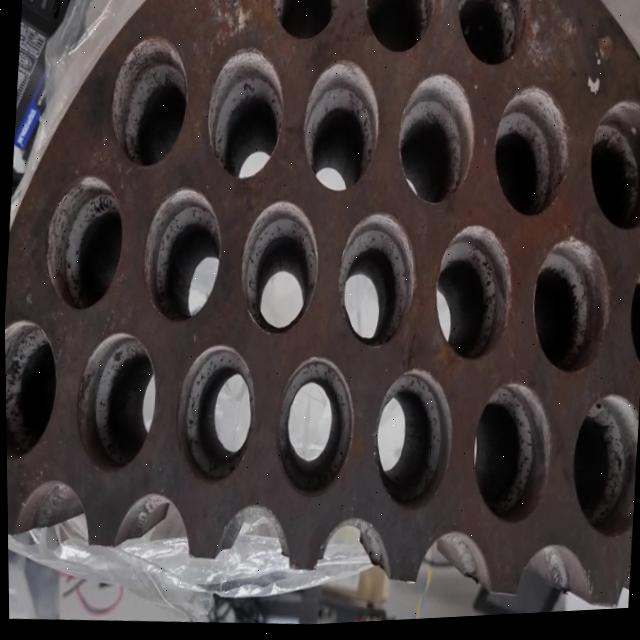Hole: (69, 329, 161, 478), (466, 385, 556, 533), (368, 370, 456, 520), (428, 224, 517, 371), (331, 212, 421, 357), (170, 343, 258, 491), (526, 238, 615, 384), (270, 357, 357, 505), (234, 199, 323, 343), (137, 186, 225, 331), (488, 87, 575, 230), (41, 172, 127, 316), (393, 73, 480, 214), (202, 45, 288, 187), (297, 59, 384, 199), (104, 34, 191, 174), (565, 398, 640, 546), (4, 318, 60, 464), (584, 104, 640, 240), (453, 0, 531, 76), (359, 0, 437, 63), (265, 0, 342, 47), (623, 257, 640, 390)
